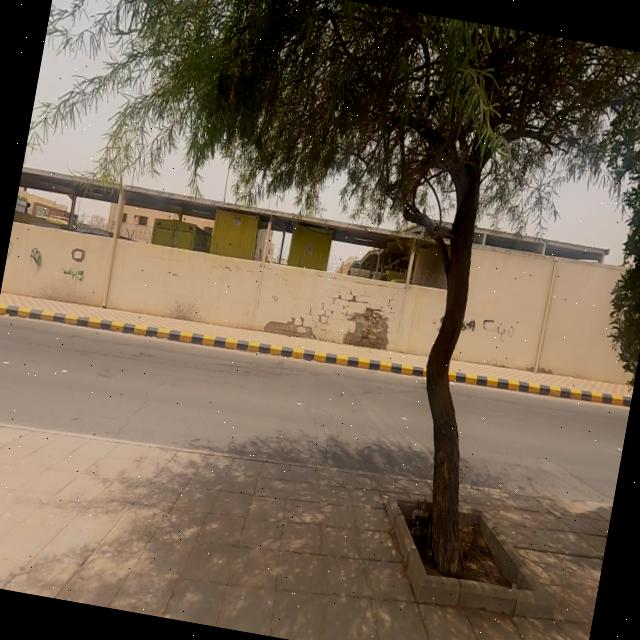Graffiti: (461, 312, 518, 348), (59, 266, 88, 288), (29, 245, 47, 272)
